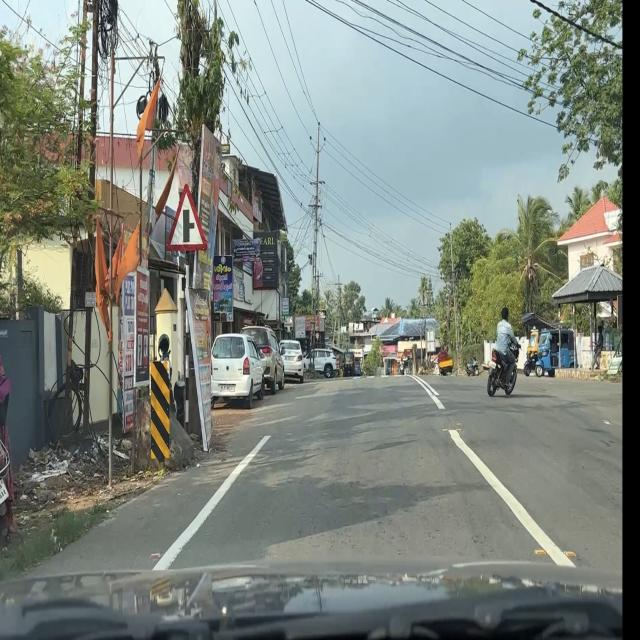SIDE_ROAD_RIGHT: (166, 183, 208, 251)
